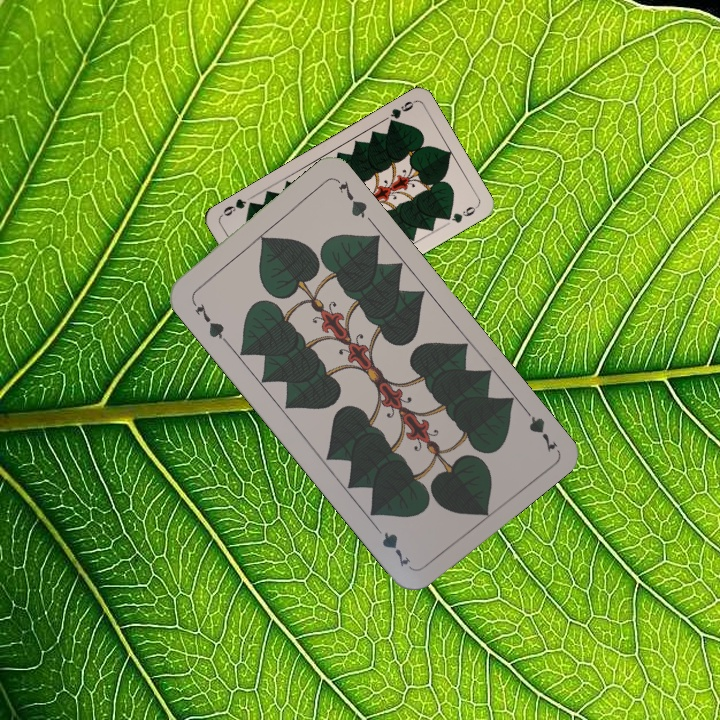G7: (517, 401, 560, 455), (187, 295, 230, 345)
G9: (384, 97, 417, 129)
